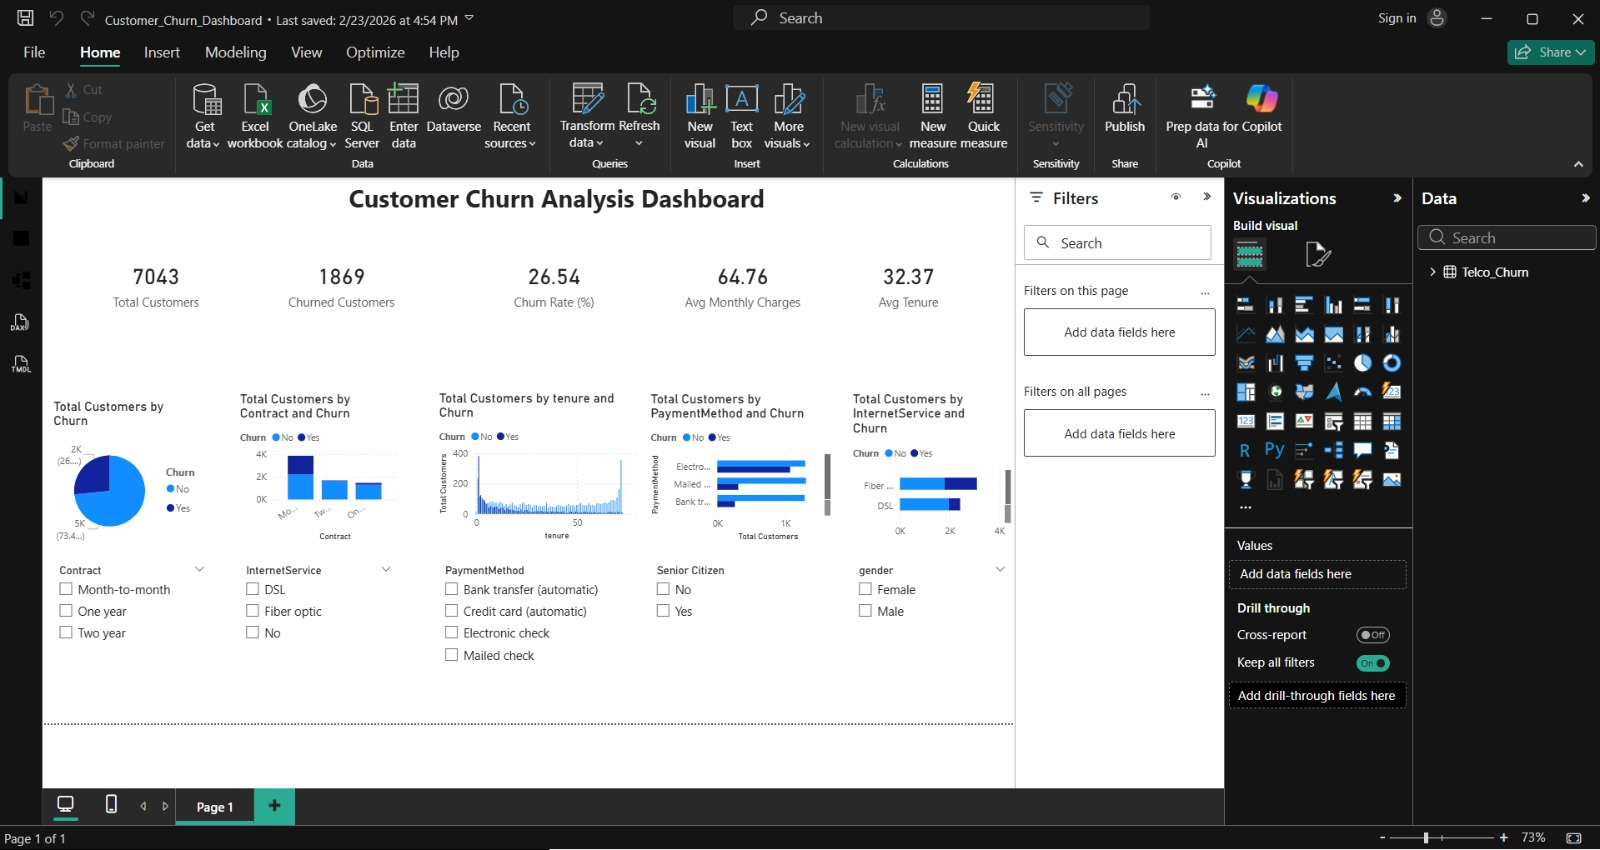

The page's visual inventory and layout, read from the dashboard file:
{"tool":"powerbi","page":{"name":"Page 1","canvas":[1280,720],"ordinal":0},"visuals":[{"type":"card","fields":{"Values":["Telco_Churn.Total Customers"]},"box":[9.6,0,279.9,279.9],"z":0},{"type":"card","fields":{"Values":["Telco_Churn.Churned Customers"]},"box":[253.9,0,279.9,279.9],"z":1000},{"type":"card","fields":{"Values":["Telco_Churn.Churn Rate (%)"]},"box":[533.8,64.5,279.9,150.9],"z":2000},{"type":"card","fields":{"Values":["Telco_Churn.Avg Monthly Charges"]},"box":[782.2,0,279.9,279.9],"z":3000},{"type":"card","fields":{"Values":["Telco_Churn.Avg Tenure"]},"box":[1000.3,0,279.9,279.9],"z":4000},{"type":"pieChart","fields":{"Category":["Telco_Churn.Churn"],"Y":["Telco_Churn.Total Customers"]},"box":[9.8,291.2,216,202.9],"z":5000},{"type":"columnChart","fields":{"Category":["Telco_Churn.Contract"],"Series":["Telco_Churn.Churn"],"Y":["Telco_Churn.Total Customers"]},"box":[255.2,281.4,216,202.9],"z":6000},{"type":"clusteredColumnChart","fields":{"Category":["Telco_Churn.tenure"],"Y":["Telco_Churn.Total Customers"],"Series":["Telco_Churn.Churn"]},"box":[517.3,279.9,278.6,203.1],"z":7000},{"type":"clusteredBarChart","fields":{"Category":["Telco_Churn.PaymentMethod"],"Y":["Telco_Churn.Total Customers"],"Series":["Telco_Churn.Churn"]},"box":[795.9,281.3,247,203.1],"z":8000},{"type":"barChart","fields":{"Category":["Telco_Churn.InternetService"],"Y":["Telco_Churn.Total Customers"],"Series":["Telco_Churn.Churn"]},"box":[1062,281,218,203],"z":9000},{"type":"slicer","fields":{"Values":["Telco_Churn.Contract"]},"box":[10,504,216,203],"z":9001},{"type":"slicer","fields":{"Values":["Telco_Churn.InternetService"]},"box":[255,504,216,203],"z":9002},{"type":"slicer","fields":{"Values":["Telco_Churn.PaymentMethod"]},"box":[517,504,279,203],"z":9003},{"type":"slicer","fields":{"Values":["Telco_Churn.Senior Citizen"]},"box":[796,504,247,203],"z":9004},{"type":"slicer","fields":{"Values":["Telco_Churn.gender"]},"box":[1062,504,218,203],"z":9005},{"type":"textbox","box":[100.2,0,1154,81],"z":9006}]}

Visuals, with their boxes on the page's 1280x720 design canvas (x1, y1, x2, y2). These are canvas units, not pixel positions in the 1600x850 screenshot, which may show the page scaled, cropped or inside an application window:
card - Telco_Churn.Total Customers: [10,0,290,280]
card - Telco_Churn.Churned Customers: [254,0,534,280]
card - Telco_Churn.Churn Rate (%): [534,64,814,215]
card - Telco_Churn.Avg Monthly Charges: [782,0,1062,280]
card - Telco_Churn.Avg Tenure: [1000,0,1280,280]
pieChart - Telco_Churn.Churn x Telco_Churn.Total Customers: [10,291,226,494]
columnChart - Telco_Churn.Contract x Telco_Churn.Churn: [255,281,471,484]
clusteredColumnChart - Telco_Churn.tenure x Telco_Churn.Total Customers: [517,280,796,483]
clusteredBarChart - Telco_Churn.PaymentMethod x Telco_Churn.Total Customers: [796,281,1043,484]
barChart - Telco_Churn.InternetService x Telco_Churn.Total Customers: [1062,281,1280,484]
slicer - Telco_Churn.Contract: [10,504,226,707]
slicer - Telco_Churn.InternetService: [255,504,471,707]
slicer - Telco_Churn.PaymentMethod: [517,504,796,707]
slicer - Telco_Churn.Senior Citizen: [796,504,1043,707]
slicer - Telco_Churn.gender: [1062,504,1280,707]
textbox: [100,0,1254,81]
